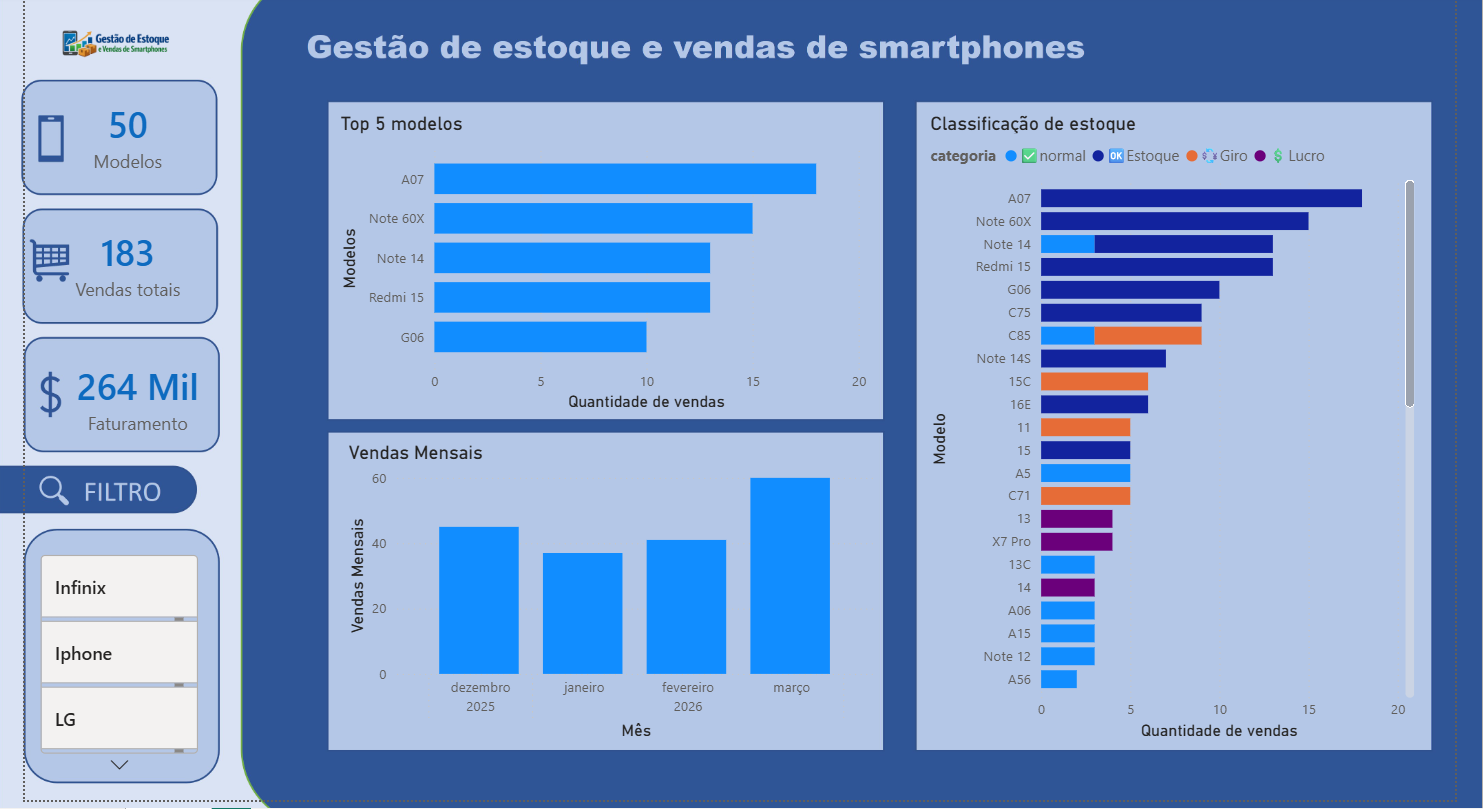

This screenshot's page, from the dashboard's own definition file:
{"tool":"powerbi","page":{"name":"Página 1","canvas":[1280,720],"ordinal":0},"visuals":[{"type":"columnChart","title":"Vendas Mensais ","fields":{"Y":["Sum(dados_tratados.QtdeProduto)"],"Category":["dados_tratados.Mes_Ano.Variation.Hierarquia de datas.Ano","dados_tratados.Mes_Ano.Variation.Hierarquia de datas.Mês"]},"box":[284.6,398.5,481.3,272.6],"z":0},{"type":"barChart","title":"Top 5 modelos ","fields":{"Category":["dados_tratados.Modelo"],"Y":["Sum(dados_tratados.QtdeProduto)"]},"box":[277.6,103.9,480.9,272.2],"z":1000},{"type":"barChart","title":"Classificação de estoque","fields":{"Category":["modelo_fat.Modelo"],"Y":["Sum(modelo_fat.QtdeProduto)"],"Series":["modelo_fat.categoria"]},"box":[806,103.9,443.3,354.6],"z":2000},{"type":"cardVisual","fields":{"Rows":["dados_tratados.Marca"]},"box":[9,475.5,151.3,228.4],"z":3000},{"type":"image","box":[9,0,151.3,90.4],"z":4000},{"type":"cardVisual","fields":{"Data":["Sum(dados_tratados.QtdeProduto)"]},"box":[0,185.4,184.5,108.4],"z":5000},{"type":"cardVisual","fields":{"Data":["Sum(dados_tratados.ValorTotal)"]},"box":[9,305.4,184.5,108.4],"z":6000},{"type":"cardVisual","fields":{"Data":["Count(dados_tratados.Modelo)"]},"box":[0,70.7,184.5,108.4],"z":7000},{"type":"textbox","box":[806,467.5,443.3,203.3],"z":7001}]}

Visuals, with their boxes in screenshot pixels (x1, y1, x2, y2):
"Vendas Mensais " columnChart: bbox=(330, 434, 882, 746)
"Top 5 modelos " barChart: bbox=(322, 96, 873, 408)
"Classificação de estoque" barChart: bbox=(928, 96, 1436, 502)
cardVisual - dados_tratados.Marca: bbox=(14, 522, 188, 784)
image: bbox=(14, 0, 188, 80)
cardVisual - Sum(dados_tratados.QtdeProduto): bbox=(4, 189, 215, 314)
cardVisual - Sum(dados_tratados.ValorTotal): bbox=(14, 327, 226, 451)
cardVisual - Count(dados_tratados.Modelo): bbox=(4, 58, 215, 182)
textbox: bbox=(928, 513, 1436, 746)
